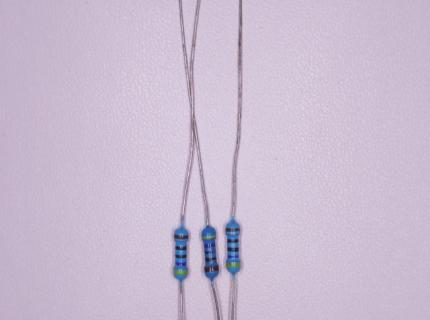Black band: (205, 256, 217, 262), (227, 247, 239, 253), (227, 238, 239, 243), (204, 250, 216, 255), (175, 246, 186, 251), (175, 254, 186, 259)
Brown band: (204, 265, 220, 273), (174, 235, 188, 240), (226, 228, 240, 232)
Violet band: (204, 242, 215, 249), (175, 262, 187, 267), (228, 255, 239, 259)
Yellow band: (200, 235, 216, 241), (174, 269, 188, 275), (226, 263, 241, 268)
